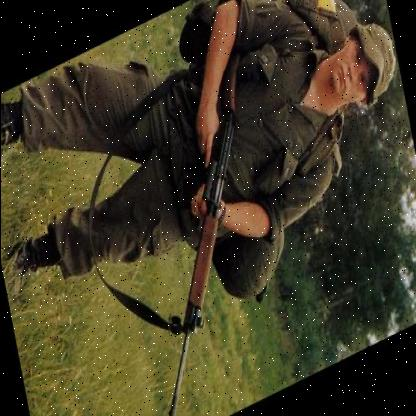rifle: (90, 26, 308, 416)
